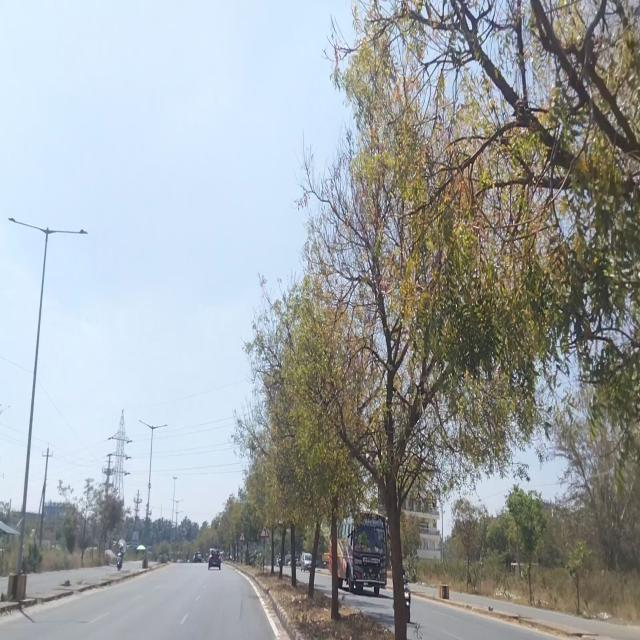bien_cam: (259, 523, 269, 540), (239, 531, 245, 541)
